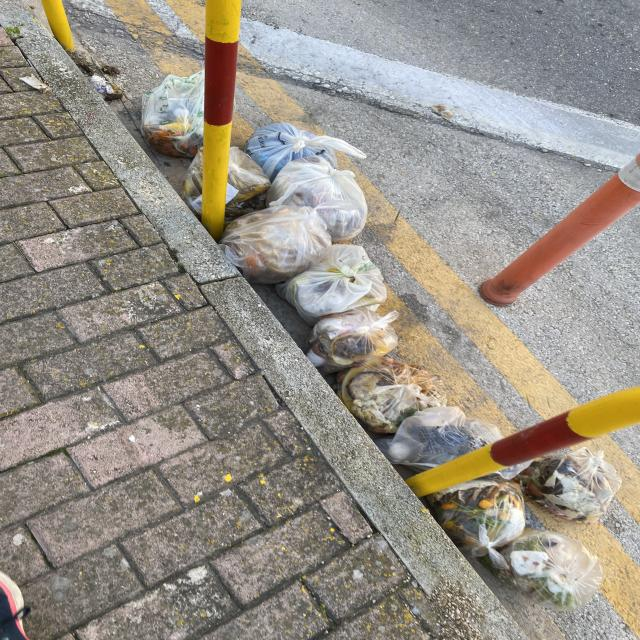Organic Waste: (487, 531, 607, 617), (279, 243, 388, 325), (223, 204, 331, 286), (382, 412, 525, 473), (270, 156, 372, 241), (338, 363, 446, 439), (533, 449, 625, 521), (304, 310, 404, 373), (435, 484, 526, 552), (186, 143, 270, 215), (246, 121, 341, 179), (142, 69, 206, 149)
